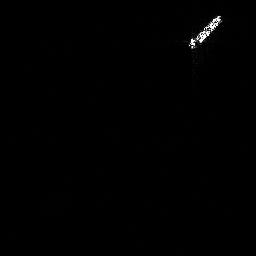ship: (184, 12, 225, 50)
